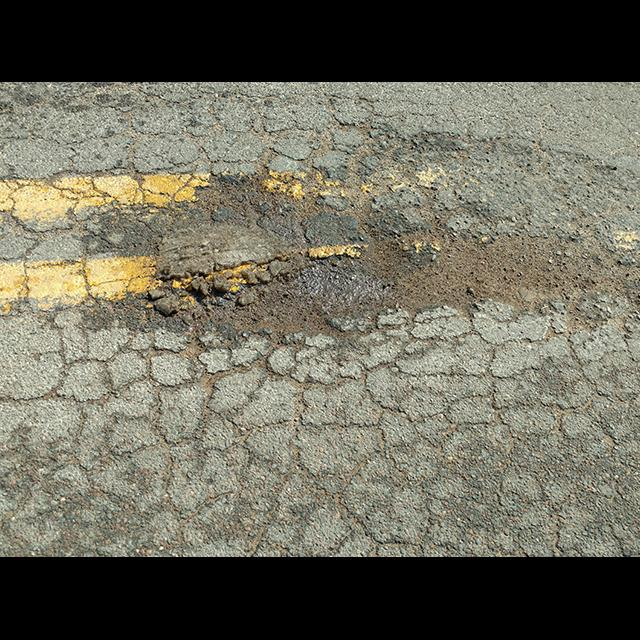retak_kulit_buaya: (62, 311, 640, 557), (0, 89, 142, 419)
